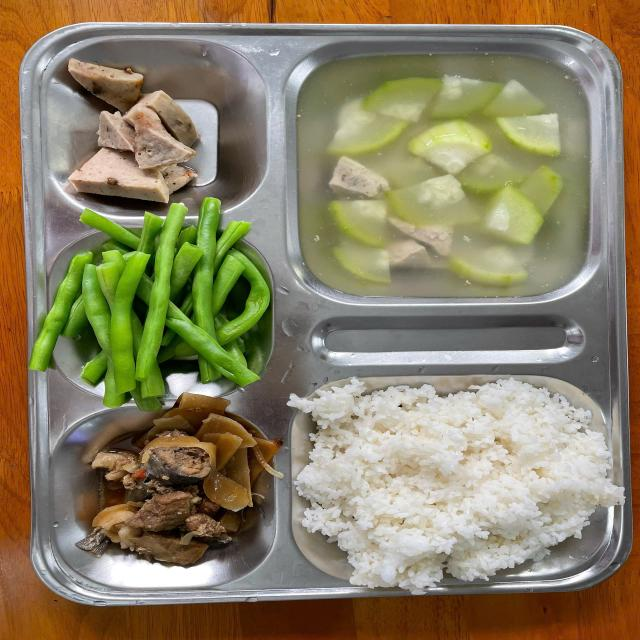canhbau: (294, 57, 592, 300)
dauque: (40, 221, 275, 396)
giocha: (58, 54, 205, 205)
salad: (302, 386, 614, 578)
thitkhotrung: (71, 408, 278, 571)
